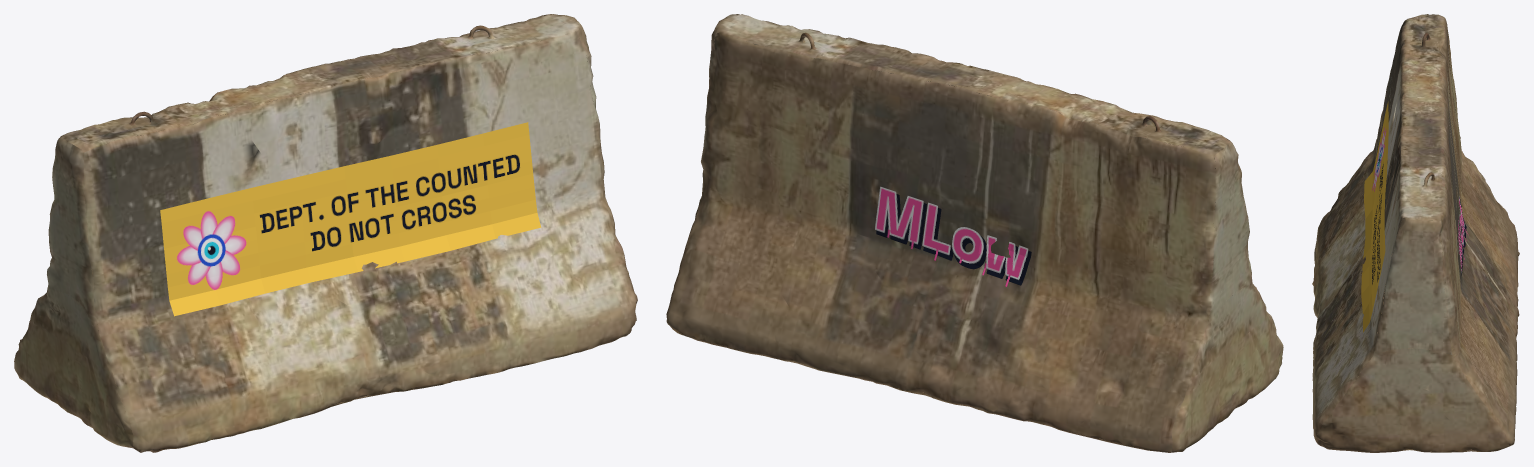
File: nyb_clover_barrier.glb
3 views of the same model, side by side, from view 1: azimuth 30°, elevation 25°; view 2: azimuth 150°, elevation 25°; view 3: azimuth 270°, elevation 25° (orthographic). The views are drawn at different scales.
Parts seen in each view (by area): view 1: concrete_road_barrier, stk_lbl_085fc83bcb.png; view 2: concrete_road_barrier, stk_tag_mlow.png; view 3: concrete_road_barrier, stk_lbl_085fc83bcb.png, stk_tag_mlow.png.
Part boxes in pixels (<box>): concrete_road_barrier: <box>14,14,637,452</box>; stk_lbl_085fc83bcb.png: <box>160,122,541,316</box>; concrete_road_barrier: <box>666,14,1283,452</box>; stk_tag_mlow.png: <box>875,186,1031,286</box>; concrete_road_barrier: <box>1312,14,1519,452</box>; stk_lbl_085fc83bcb.png: <box>1361,101,1388,332</box>; stk_tag_mlow.png: <box>1458,196,1468,275</box>.
Bounding box in the file's own units: 1.55 × 0.8309 × 0.6387.
3 materials, 3 textured.
